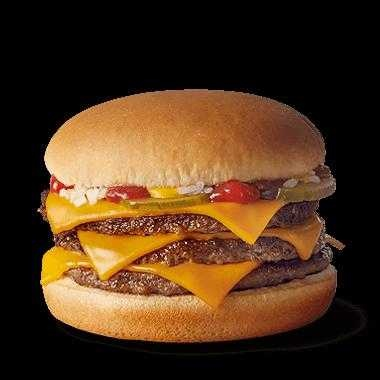hamburger: (29, 87, 336, 328)
